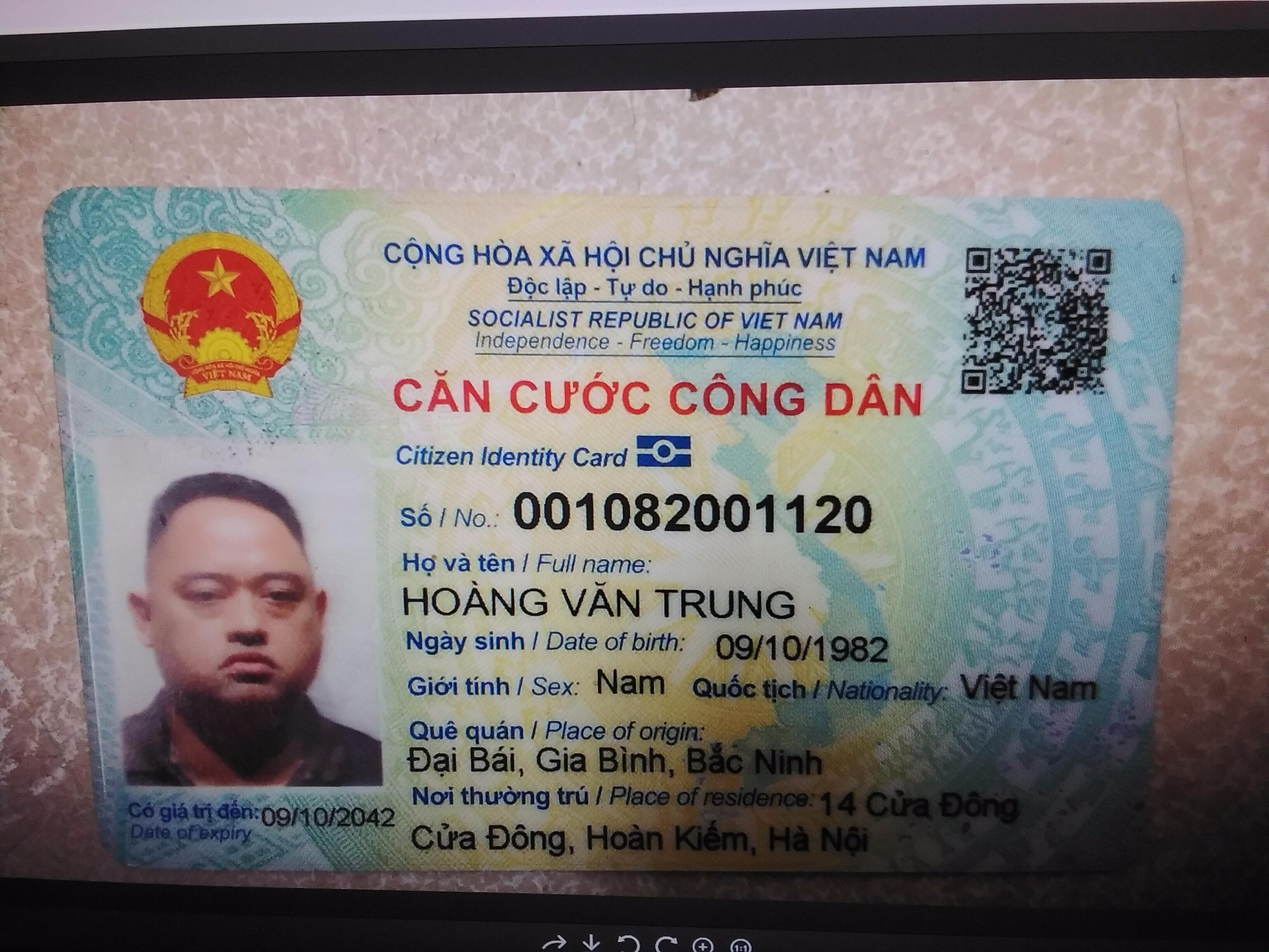ID: (502, 479, 884, 542)
birth: (704, 626, 903, 670)
name: (400, 576, 808, 626)
place: (395, 739, 823, 779)
residence: (408, 811, 876, 863), (815, 780, 1024, 829)
